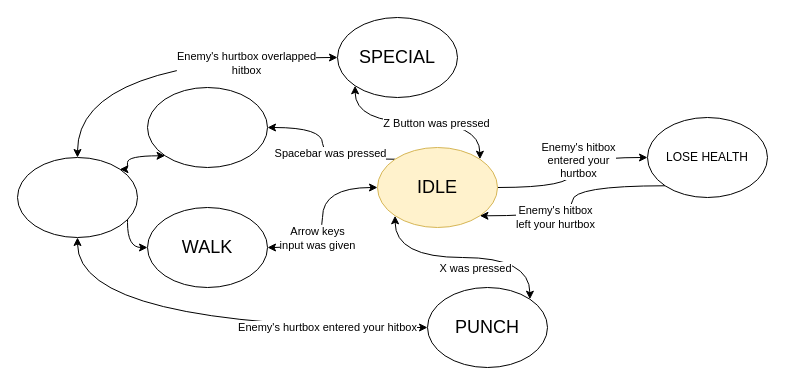
This 785x385 diagram has some shape labels left out. The centre of each missing label's shape, as x and y in pixels:
DO DAMAGE: the point at 77,197
KICK: the point at 207,127
